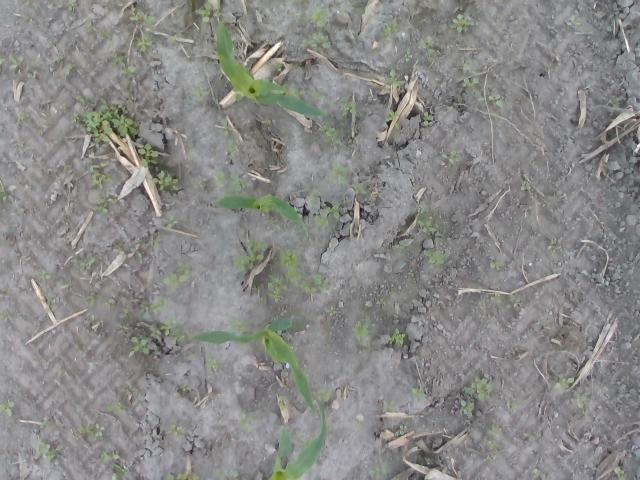Maize: (214, 0, 328, 118), (190, 317, 318, 416), (209, 194, 314, 244), (266, 400, 328, 480)
Weeds: (81, 103, 138, 144), (234, 238, 268, 272), (272, 247, 303, 284), (160, 319, 197, 342), (163, 262, 191, 292), (223, 173, 254, 197), (466, 377, 496, 400), (266, 273, 288, 303), (314, 204, 339, 230), (110, 51, 136, 76), (194, 0, 222, 23), (90, 162, 112, 190), (152, 170, 180, 191), (299, 275, 327, 295), (318, 121, 341, 144), (92, 192, 116, 213), (128, 6, 156, 24), (423, 250, 448, 270), (298, 34, 329, 50), (138, 143, 158, 167), (75, 422, 105, 438), (128, 336, 150, 357), (37, 440, 59, 460), (306, 8, 328, 28), (448, 14, 472, 32), (571, 394, 589, 417), (328, 163, 348, 183), (378, 21, 398, 41), (554, 374, 574, 394), (116, 308, 134, 330), (384, 69, 404, 88), (166, 469, 200, 480), (70, 256, 96, 270), (460, 77, 480, 95), (86, 26, 112, 39), (352, 320, 368, 341), (478, 95, 503, 108), (386, 328, 405, 345), (189, 86, 209, 102), (227, 317, 247, 333), (111, 463, 129, 480), (369, 464, 388, 480), (459, 399, 474, 418), (238, 412, 252, 432), (216, 120, 233, 136), (225, 139, 239, 158), (441, 150, 461, 163), (0, 400, 15, 417), (416, 220, 437, 232), (160, 215, 178, 229), (138, 34, 152, 52), (384, 110, 398, 128), (214, 171, 230, 186), (462, 58, 477, 74), (205, 355, 219, 372), (340, 102, 357, 116), (164, 424, 182, 437), (106, 402, 129, 412), (548, 239, 560, 258), (151, 298, 167, 312), (410, 386, 426, 400), (506, 294, 520, 309), (34, 268, 50, 281), (316, 389, 332, 402), (566, 16, 583, 28), (352, 182, 366, 196), (10, 56, 24, 70), (420, 38, 434, 52), (150, 326, 162, 342), (309, 190, 322, 204), (146, 235, 162, 246), (100, 451, 119, 460), (382, 400, 396, 412), (309, 90, 325, 100), (489, 292, 502, 304), (608, 95, 620, 108), (324, 305, 338, 316), (491, 422, 502, 436), (138, 304, 150, 316), (76, 94, 92, 103), (534, 468, 546, 480), (614, 468, 626, 480), (64, 63, 75, 76), (422, 111, 431, 126), (0, 188, 8, 204), (403, 48, 412, 62), (489, 262, 504, 270), (214, 468, 224, 480), (278, 395, 286, 410), (324, 420, 334, 432), (487, 440, 499, 450), (395, 241, 409, 249), (19, 111, 30, 121), (86, 294, 96, 304), (54, 54, 64, 64), (394, 426, 404, 436), (70, 112, 79, 123), (292, 88, 304, 96), (248, 284, 260, 292), (272, 63, 282, 72), (230, 471, 240, 480), (113, 241, 123, 250), (520, 182, 530, 191), (47, 297, 53, 312), (376, 298, 387, 306), (192, 180, 203, 188), (67, 1, 75, 12), (524, 433, 536, 440), (180, 384, 190, 392), (0, 312, 8, 322), (0, 286, 10, 294), (26, 71, 36, 78), (104, 301, 112, 309), (124, 94, 134, 100), (507, 402, 517, 408), (478, 301, 484, 311), (235, 94, 242, 102), (261, 119, 272, 124), (168, 35, 178, 40), (356, 422, 364, 428), (417, 210, 424, 216), (0, 56, 4, 66), (19, 140, 24, 147)
